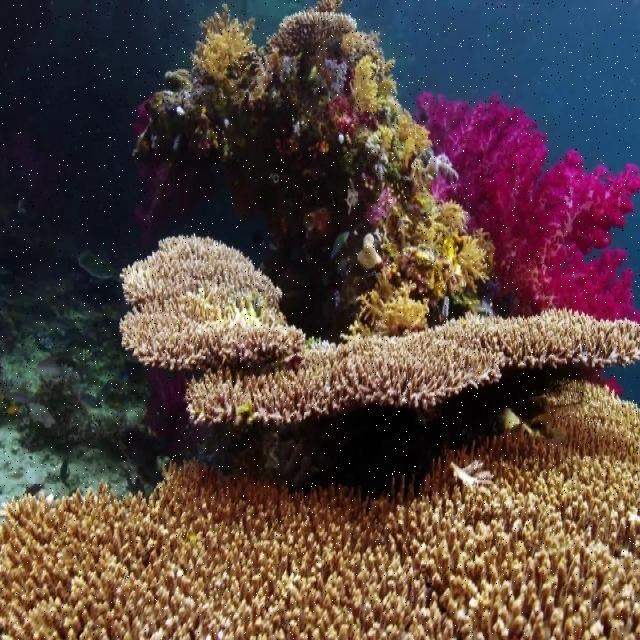reefs: (0, 383, 639, 639), (119, 238, 639, 425), (413, 90, 639, 324), (356, 117, 493, 331)
